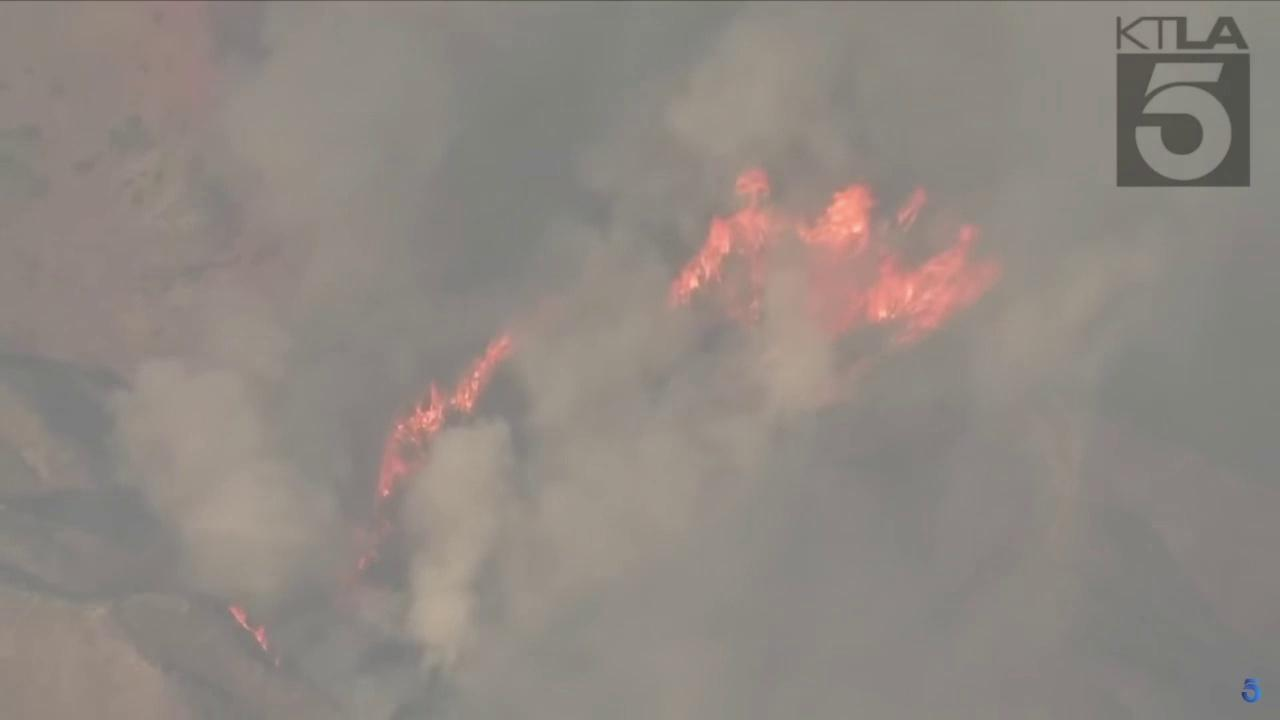fire: (646, 163, 1008, 358), (376, 328, 522, 500), (230, 602, 273, 655)
smoke: (95, 0, 1280, 720)
